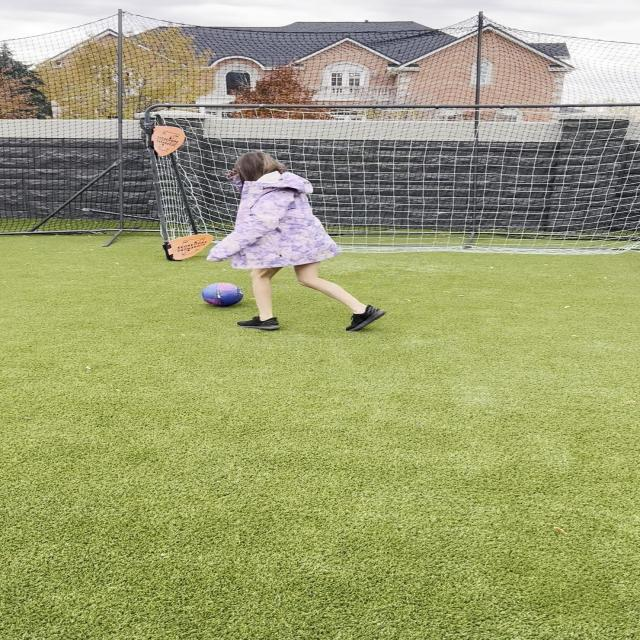Soccer Ball: (202, 281, 245, 309)
